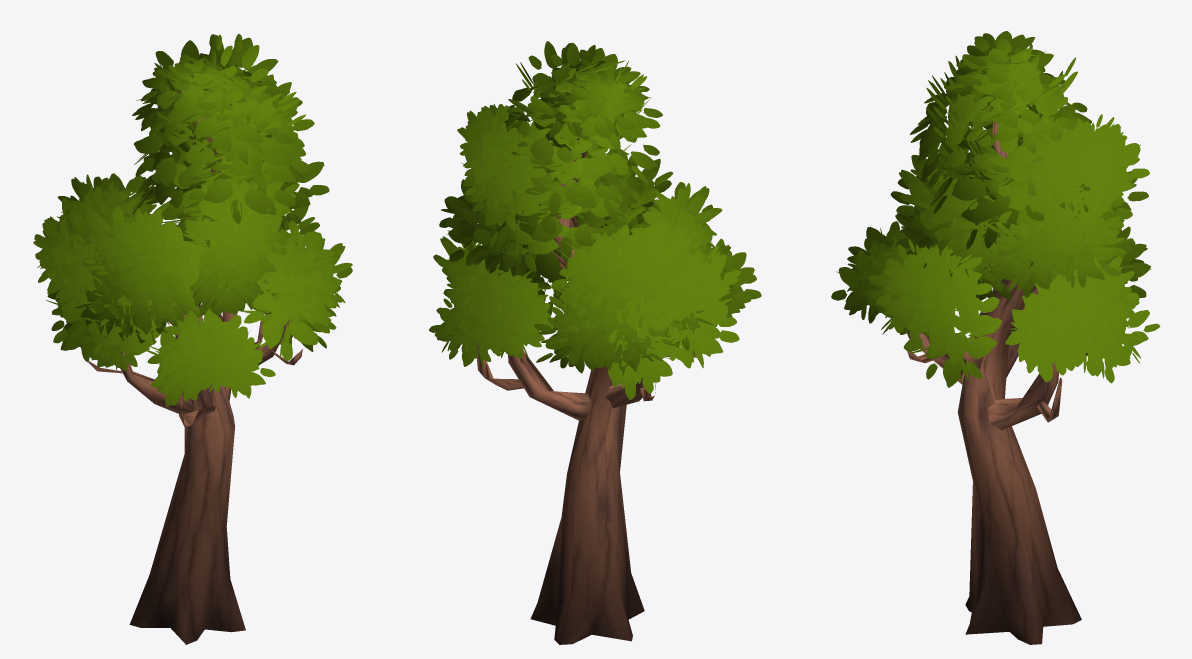
The model's file is tree-teaching-2-sapling.glb.
3 views of the same model, side by side, from view 1: azimuth 30°, elevation 25°; view 2: azimuth 150°, elevation 25°; view 3: azimuth 270°, elevation 25° (orthographic). The views are drawn at different scales.
Parts seen in each view (by area): view 1: CommonTree_2; view 2: CommonTree_2; view 3: CommonTree_2.
Boxes of the visible parts, <box> form: CommonTree_2: <box>33,34,352,644</box>; CommonTree_2: <box>429,41,761,644</box>; CommonTree_2: <box>831,31,1160,644</box>.
Size of the model in its own units: 0.3796 by 0.65 by 0.3636.
2 materials, 2 textured.
